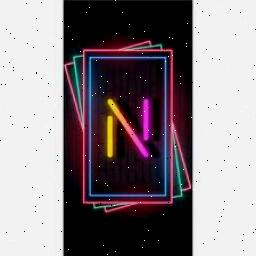n: (100, 90, 158, 168)
